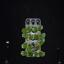leaf: (39, 38, 45, 46), (38, 51, 45, 57), (22, 33, 28, 39), (40, 33, 46, 39), (37, 25, 43, 31), (21, 51, 27, 56), (21, 44, 27, 49), (28, 44, 34, 49), (27, 26, 32, 32), (32, 27, 38, 32), (28, 45, 32, 52), (28, 52, 33, 57), (33, 34, 38, 39), (32, 52, 38, 56), (22, 29, 28, 33), (34, 46, 39, 50), (28, 34, 32, 38), (28, 25, 30, 32), (34, 43, 38, 46), (26, 53, 28, 56), (38, 28, 40, 30), (38, 37, 39, 39)
